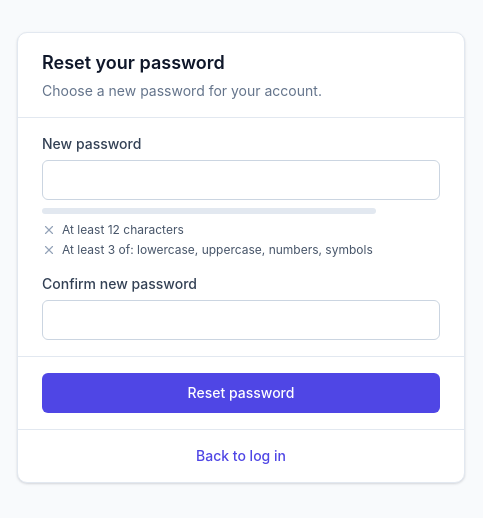
Test: ResetPasswordPage › TC-9: mismatched confirmation shows an inline error before submit
Step 1. Type "CorrectHorse1!" into the password field labelled "New password" → (241, 180), box [42,160,440,200]
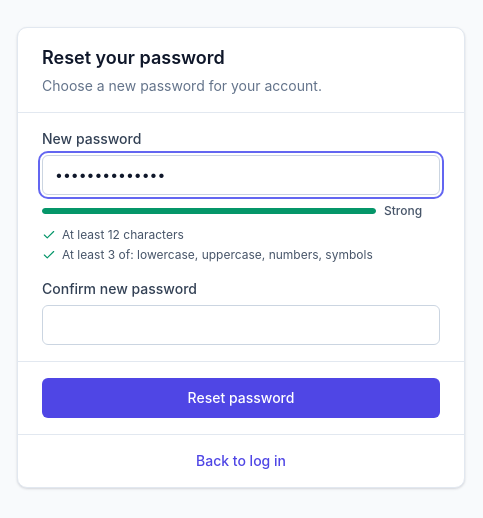
Step 2. Type "Different1!" into the password field labelled "Confirm new password" → (241, 324), box [42,304,440,344]
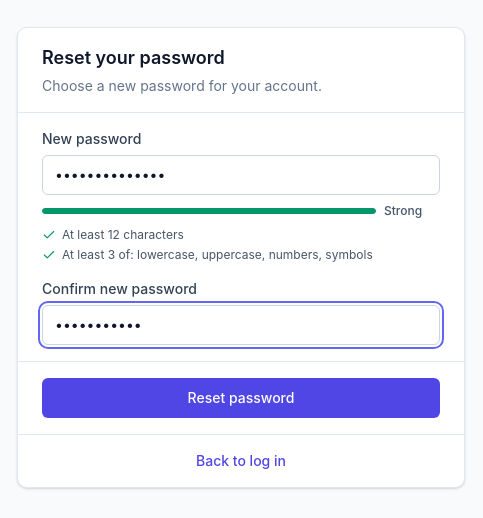
Step 3. Click the button "Reset password" → click(241, 398), box [42,378,440,418]
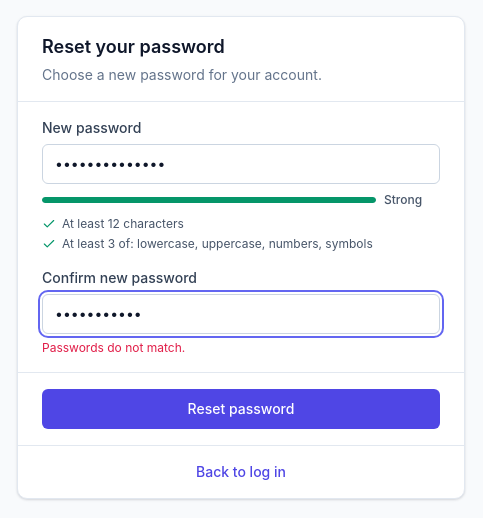
Now the text "Passwords do not match." is shown, box [42,340,185,354]
